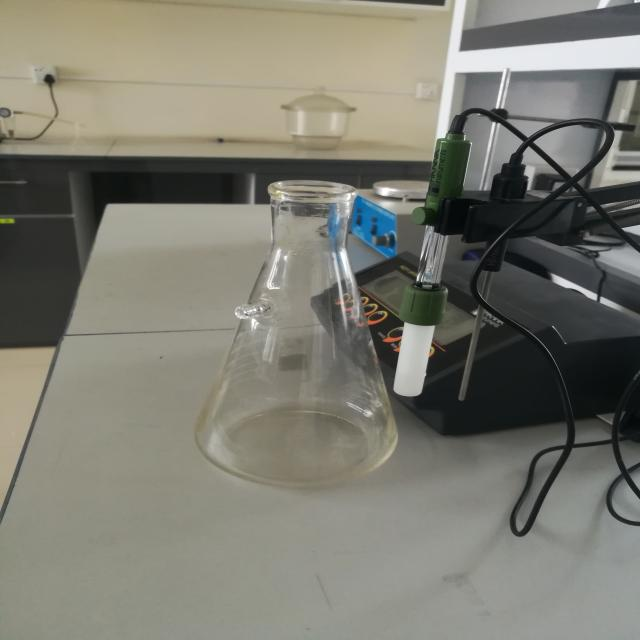Conical_Flask: (166, 157, 463, 510)
